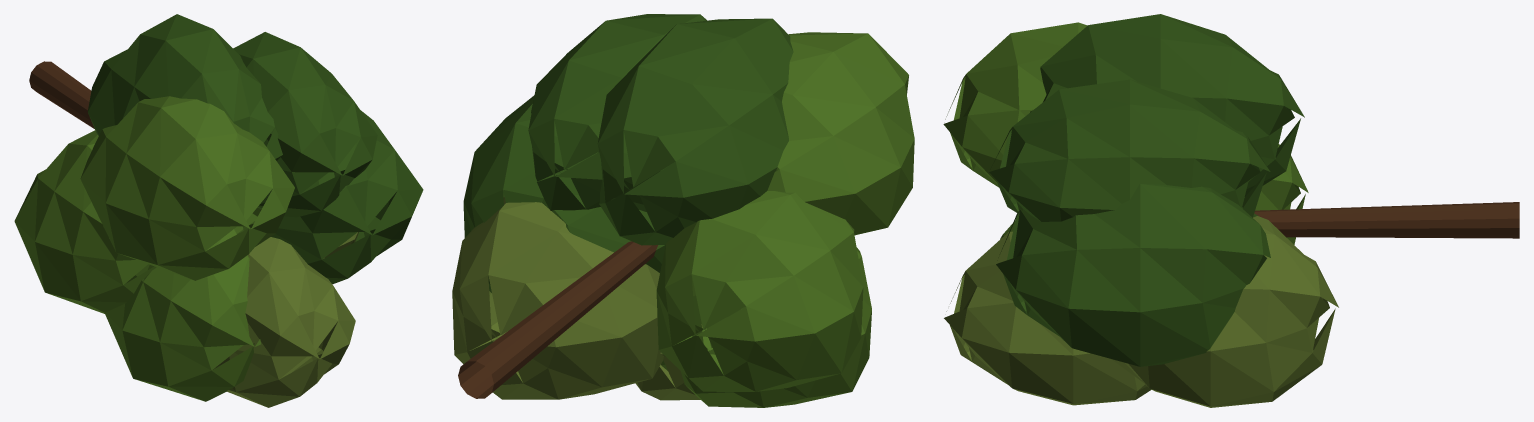
Rendered from broadleaf_tree.obj.
3 views of the same model, side by side, from view 1: azimuth 30°, elevation 25°; view 2: azimuth 150°, elevation 25°; view 3: azimuth 270°, elevation 25° (orthographic). The views are drawn at different scales.
Parts seen in each view (by area): view 1: broadleaf_tree; view 2: broadleaf_tree; view 3: broadleaf_tree.
Part boxes in pixels (<box>): broadleaf_tree: <box>14,14,423,407</box>; broadleaf_tree: <box>452,14,914,407</box>; broadleaf_tree: <box>943,14,1519,407</box>.
Bounding box in the file's own units: 3.4 × 3.18 × 4.71.
